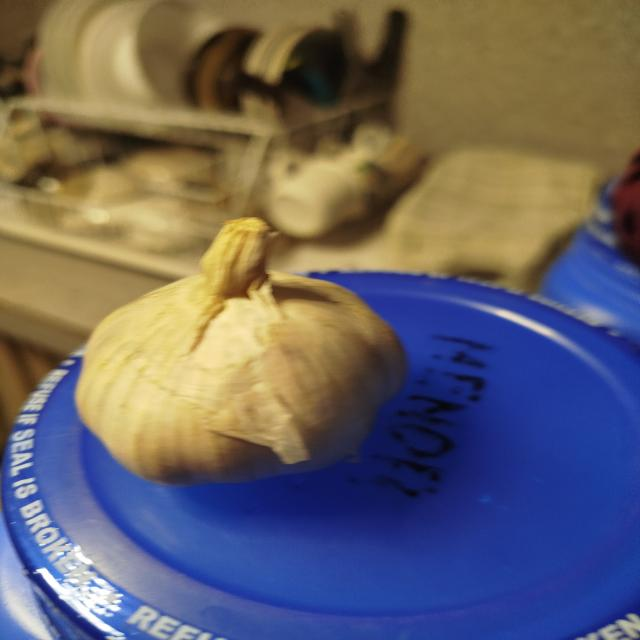garlic: (74, 216, 408, 487)
